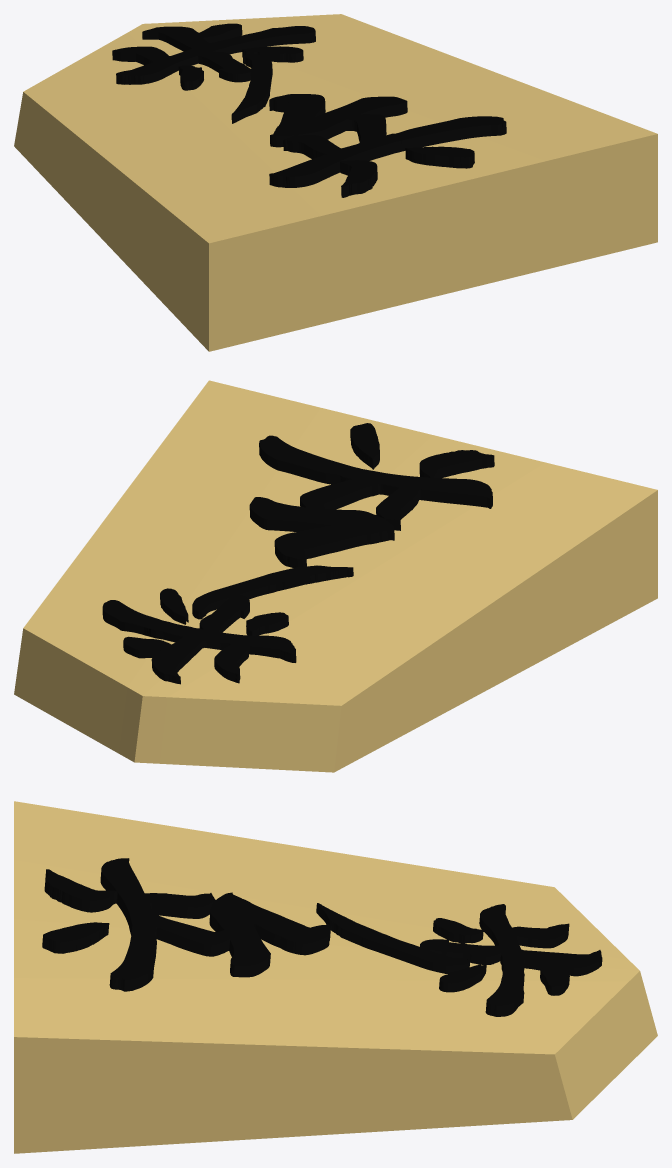
The model's file is Pion.fbx.
3 renders of one model, top to bottom at view 1: azimuth 30°, elevation 25°; view 2: azimuth 150°, elevation 25°; view 3: azimuth 270°, elevation 25°, orthographic. The views are drawn at different scales.
Parts seen in each view (by area): view 1: Pion; view 2: Pion; view 3: Pion.
Boxes of the visible parts, box(x1,y1,x2,y2) form: Pion: box(14, 14, 657, 351); Pion: box(14, 380, 657, 772); Pion: box(14, 801, 657, 1153).
Size of the model in its own units: 63.4 by 15.92 by 73.15.
